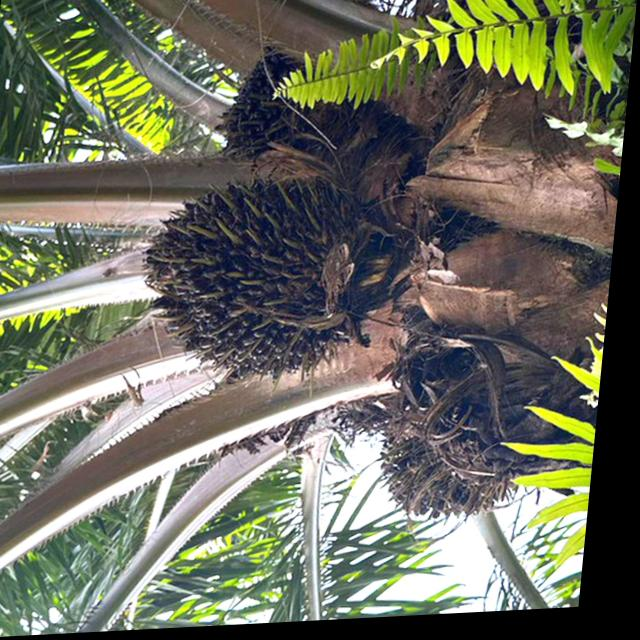almost: (130, 175, 378, 392), (370, 386, 546, 533), (219, 48, 374, 176)
